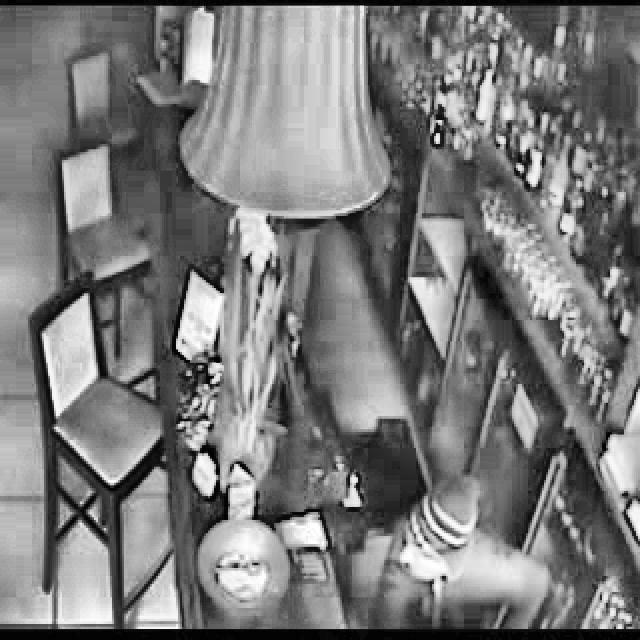burglary: (336, 464, 560, 628)
